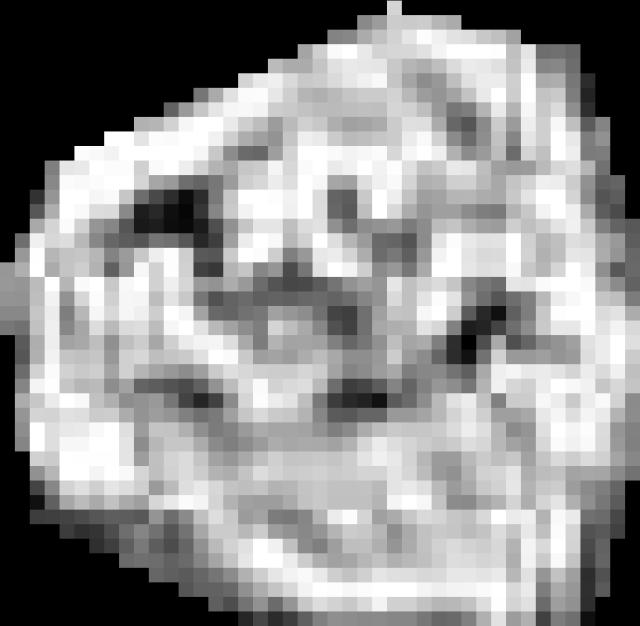tumor_good_chance: (0, 1, 640, 626)
